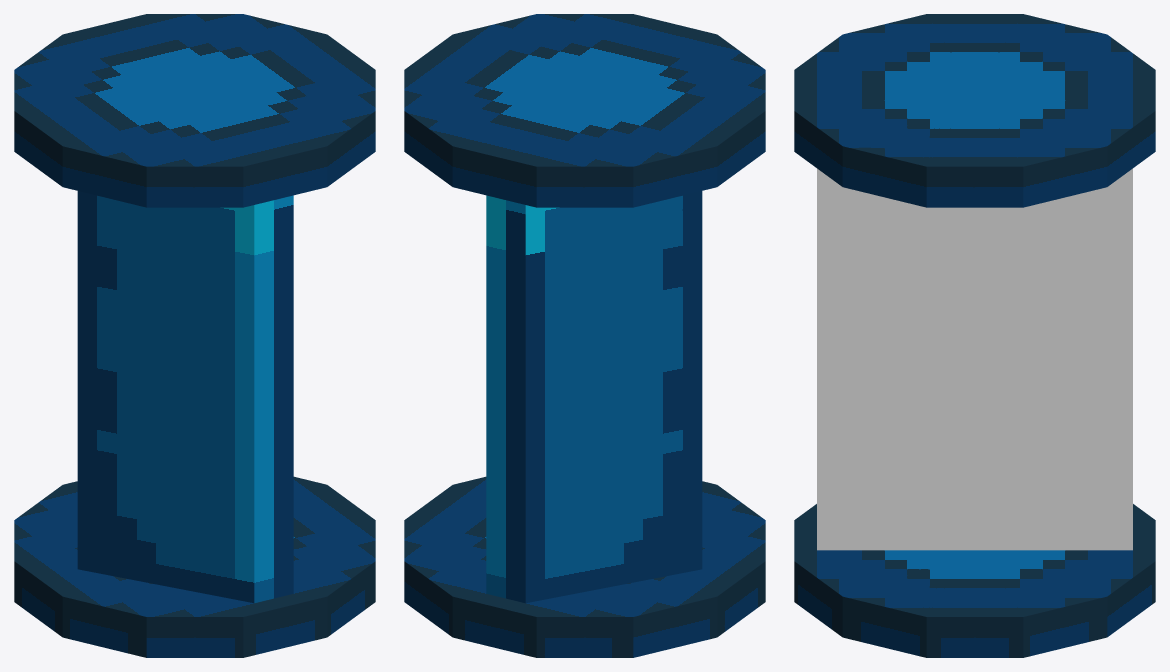
Rendered from SpinningLight.gltf.
3 renders of one model, left to right at view 1: azimuth 30°, elevation 25°; view 2: azimuth 150°, elevation 25°; view 3: azimuth 270°, elevation 25°, orthographic.
Visible parts, largest first — view 1: LightSpinner, top, bottom; view 2: LightSpinner, top, bottom; view 3: Light, top, bottom.
Part boxes in pixels (x1,y1,x2,y2): LightSpinner: (77, 191, 293, 603); top: (14, 14, 375, 207); bottom: (14, 476, 375, 657); LightSpinner: (486, 191, 702, 603); top: (404, 14, 765, 207); bottom: (404, 476, 765, 657); Light: (817, 168, 1132, 550); top: (794, 14, 1155, 207); bottom: (794, 504, 1155, 657).
Size of the model in its own units: 1 by 1.5 by 1.
2 materials, 1 textured.
